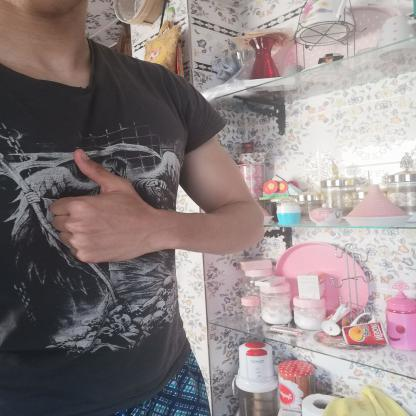ALIF: (34, 136, 176, 278)
